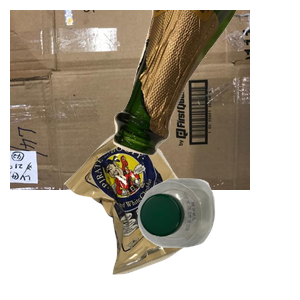cardboard: (10, 10, 250, 190)
glass: (111, 10, 300, 158)
plastic: (135, 176, 300, 300)
trash: (61, 127, 260, 300)
